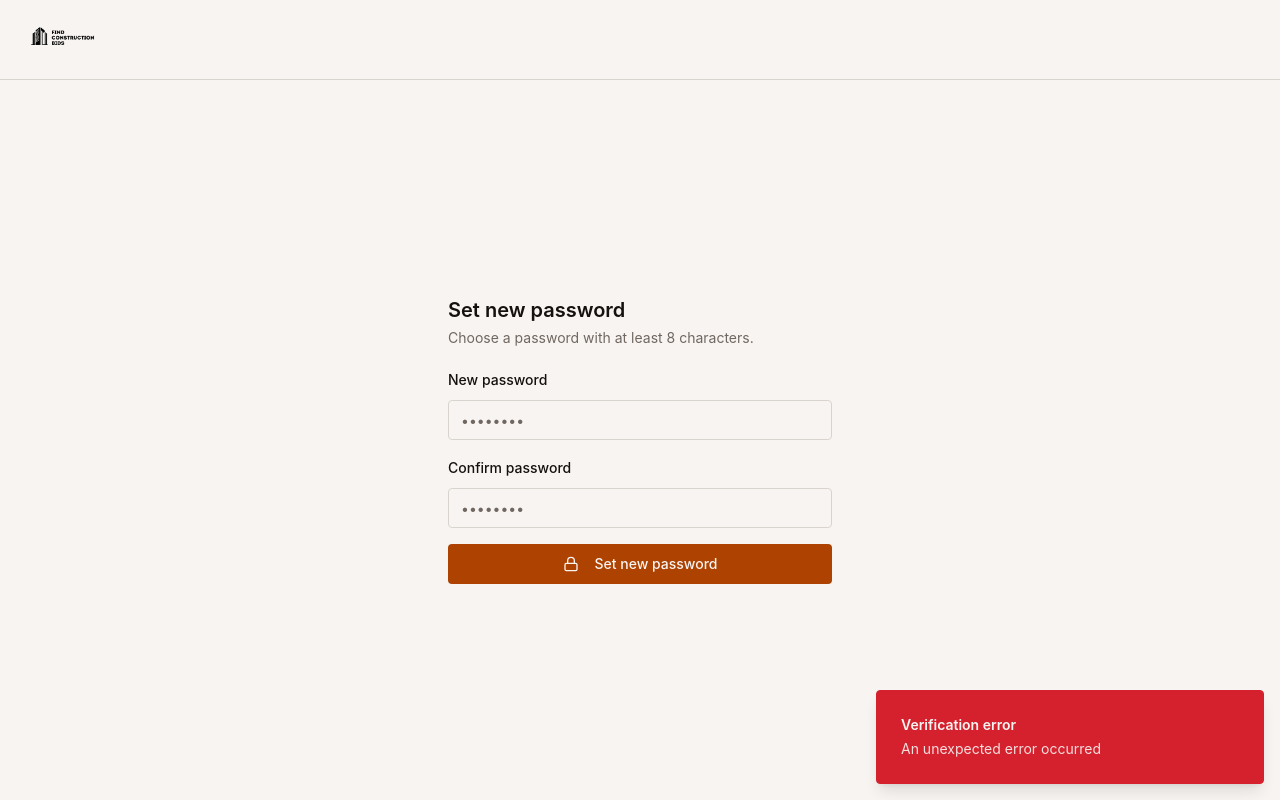
Test: ResetPasswordPage › valid token in URL › shows the "Password updated" success state after submit
Type "NewPassword1" into the password field with test id "input-password". click: (640, 420)
box: [448,400,832,440]
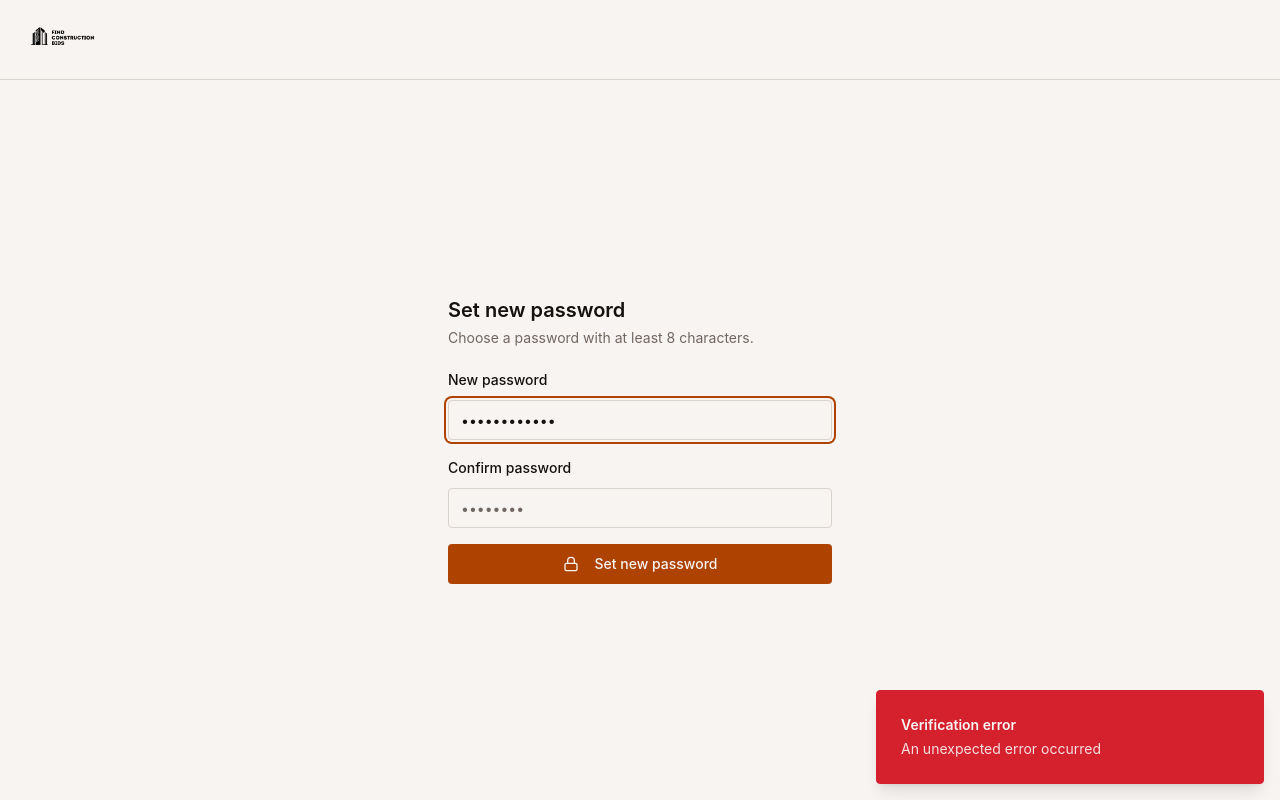
Type "NewPassword1" into the password field with test id "input-confirm-password". click: (640, 508)
box: [448,488,832,528]
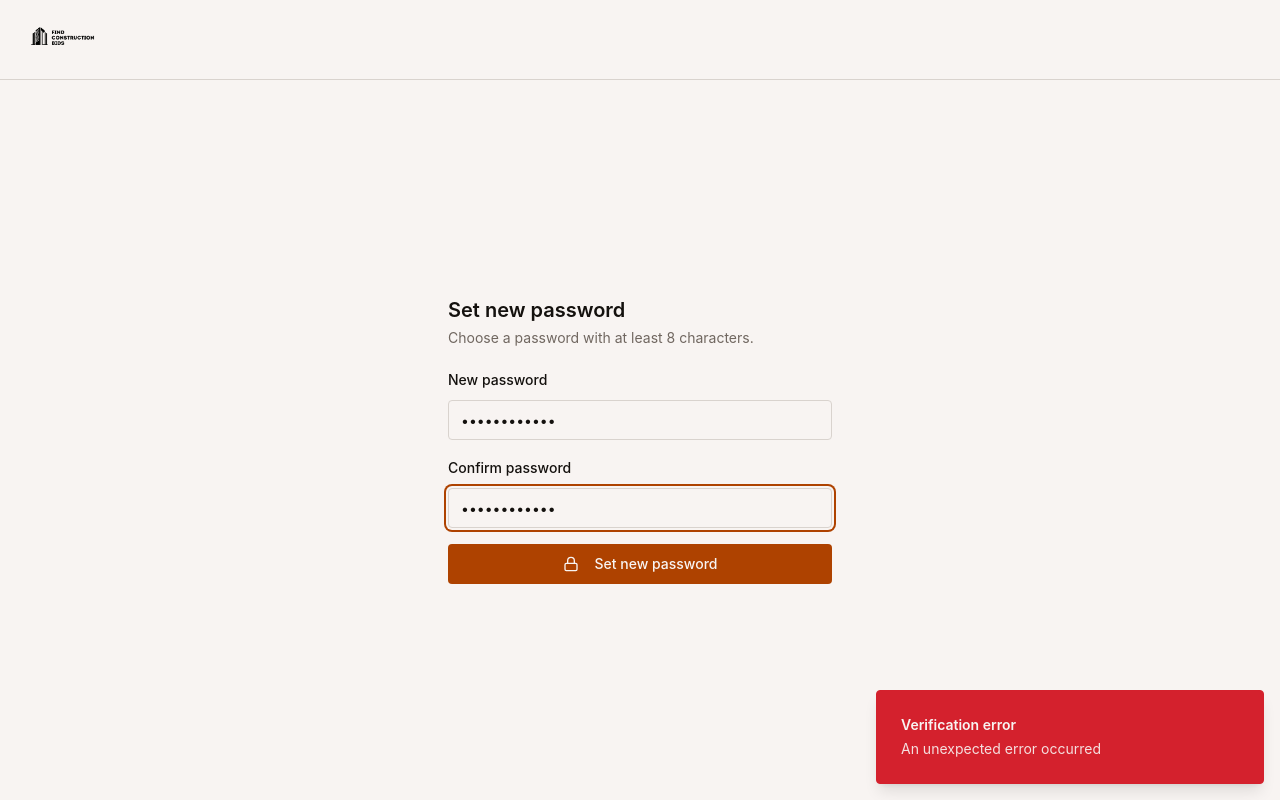
Click the button with test id "button-reset-password". click: (640, 564)
box: [448,544,832,584]
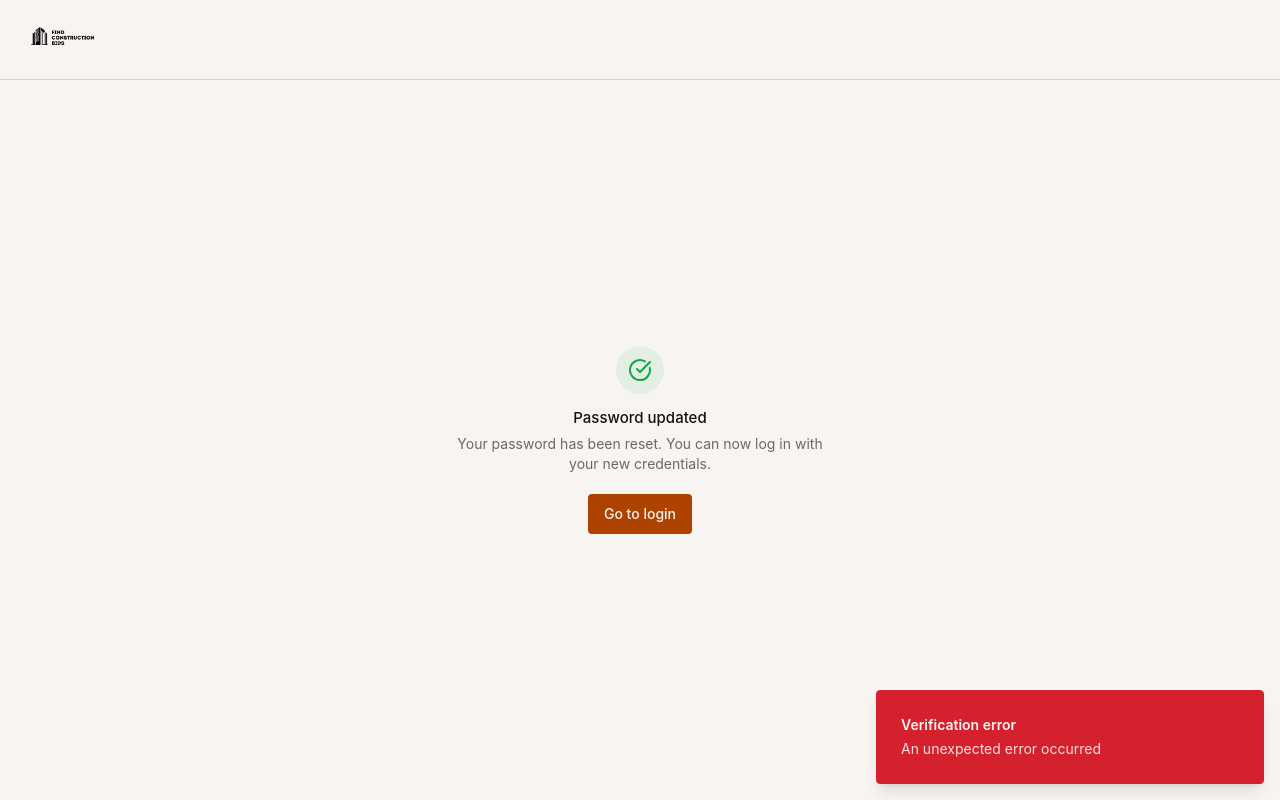
Now the text "Password updated" is shown, box [573,408,707,427]
